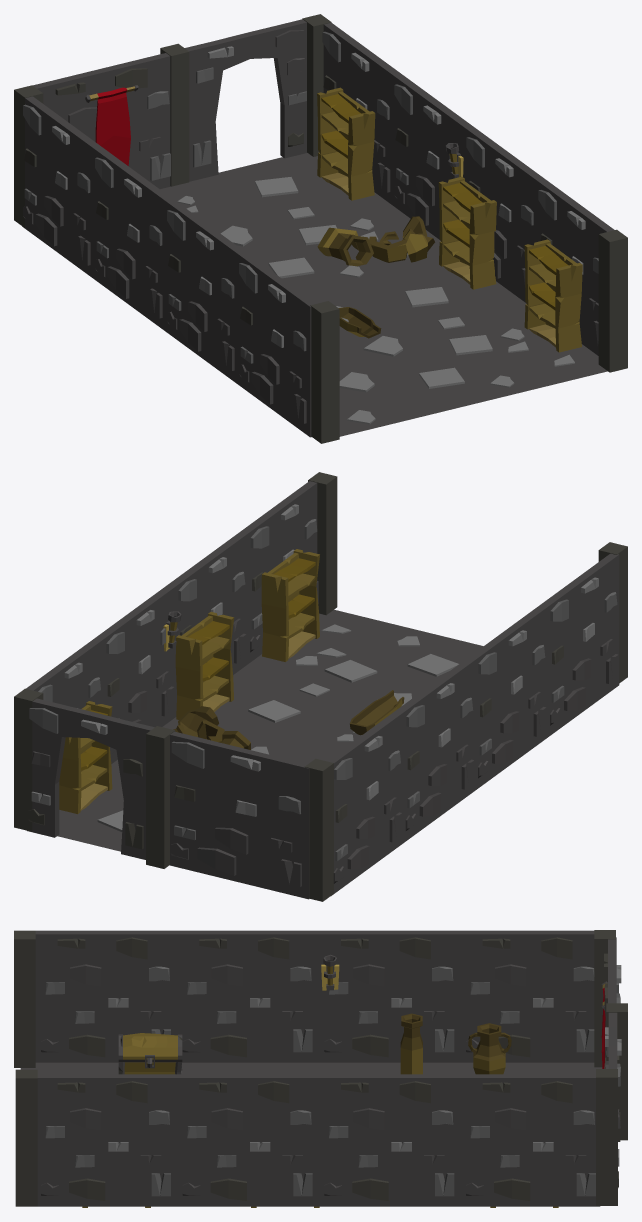
Rendered from room2.glb.
3 views of the same model, one above another, from view 1: azimuth 30°, elevation 25°; view 2: azimuth 150°, elevation 25°; view 3: azimuth 270°, elevation 25° (orthographic).
Parts seen in each view (by area): view 1: Big_Flat_Floor.003, Flat_Wall.008, Flat_Wall.009, exit 1.002, Flat_Wall.010, Book_Shelf_1.006, Book_Shelf_1.004, Book_Shelf_1.005, Stone_Wall_Corner.013, Stone_Wall_Corner.014, Vase_Broken.003, Stone_Wall_Corner.017 (+4 smaller); view 2: Flat_Wall.008, Big_Flat_Floor.003, Flat_Wall.009, Flat_Wall.010, exit 1.002, Book_Shelf_1.004, Book_Shelf_1.005, Book_Shelf_1.006, Stone_Wall_Corner.016, Stone_Wall_Corner.017, Stone_Wall_Corner.013, Stone_Wall_Corner.015 (+3 smaller); view 3: Flat_Wall.009, Flat_Wall.008, Big_Flat_Floor.003, Stone_Wall_Corner.013, Stone_Wall_Corner.014, Stone_Wall_Corner.015, Chest.002, Vase.002, Stone_Wall_Corner.016, Stone_Wall_Corner.017, Large_Vase.002, Flat_Wall.010 (+2 smaller).
Part boxes in pixels (x1,y1,x2,y2): Big_Flat_Floor.003: [160, 153, 607, 436]; Flat_Wall.008: [22, 96, 315, 437]; Flat_Wall.009: [322, 22, 614, 355]; exit 1.002: [185, 19, 307, 181]; Flat_Wall.010: [32, 53, 170, 188]; Book_Shelf_1.006: [317, 87, 375, 200]; Book_Shelf_1.004: [524, 239, 582, 352]; Book_Shelf_1.005: [438, 176, 496, 289]; Stone_Wall_Corner.013: [598, 229, 627, 372]; Stone_Wall_Corner.014: [310, 301, 339, 443]; Vase_Broken.003: [317, 216, 434, 266]; Stone_Wall_Corner.017: [160, 43, 189, 186]; Flat_Wall.008: [327, 553, 619, 895]; Big_Flat_Floor.003: [57, 609, 483, 851]; Flat_Wall.009: [26, 481, 318, 763]; Flat_Wall.010: [170, 731, 309, 899]; exit 1.002: [27, 698, 154, 859]; Book_Shelf_1.004: [261, 549, 319, 661]; Book_Shelf_1.005: [175, 612, 234, 719]; Book_Shelf_1.006: [59, 701, 112, 814]; Stone_Wall_Corner.016: [305, 758, 333, 901]; Stone_Wall_Corner.017: [146, 726, 175, 868]; Stone_Wall_Corner.013: [308, 472, 337, 615]; Stone_Wall_Corner.015: [14, 688, 43, 831]; Flat_Wall.009: [37, 1074, 600, 1206]; Flat_Wall.008: [35, 930, 594, 1062]; Big_Flat_Floor.003: [20, 1062, 602, 1074]; Stone_Wall_Corner.013: [15, 1069, 37, 1206]; Stone_Wall_Corner.014: [14, 930, 35, 1067]; Stone_Wall_Corner.015: [596, 1069, 617, 1205]; Chest.002: [118, 1033, 182, 1074]; Vase.002: [468, 1023, 511, 1074]; Stone_Wall_Corner.016: [594, 930, 615, 1067]; Stone_Wall_Corner.017: [606, 1003, 627, 1140]; Large_Vase.002: [400, 1013, 422, 1074]; Flat_Wall.010: [604, 937, 621, 1068].
Bounding box in the file's own units: 20.13 × 8.45 × 34.53.
1 material, 1 textured.
